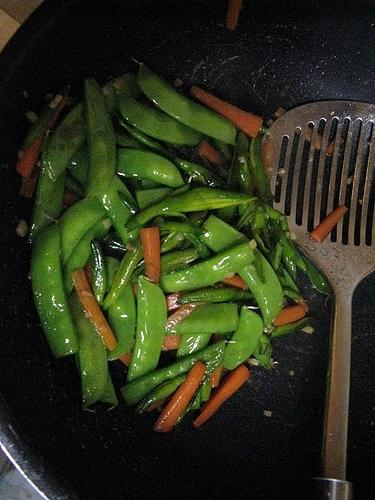carrot: (15, 98, 68, 179), (70, 268, 118, 351), (192, 363, 251, 429), (153, 360, 206, 433), (190, 86, 263, 138), (275, 107, 344, 154), (161, 302, 213, 351), (309, 205, 348, 243), (138, 226, 160, 285), (209, 333, 223, 388), (273, 305, 306, 327), (18, 165, 40, 198), (199, 140, 222, 166), (224, 3, 241, 34), (220, 275, 248, 290), (148, 395, 172, 412), (165, 292, 184, 312), (62, 190, 82, 208), (262, 140, 272, 174), (83, 256, 91, 289), (132, 282, 138, 302)
green bean: (47, 72, 143, 182), (198, 215, 284, 328), (139, 62, 238, 145), (125, 174, 259, 232), (121, 339, 228, 407), (30, 223, 80, 358), (67, 286, 108, 408), (160, 242, 256, 293), (127, 274, 168, 384), (62, 214, 113, 300), (119, 96, 205, 146), (84, 76, 116, 200), (59, 197, 107, 271), (106, 256, 136, 361), (114, 147, 186, 189), (223, 305, 264, 371), (164, 302, 240, 336), (131, 248, 200, 283), (178, 231, 212, 260)
